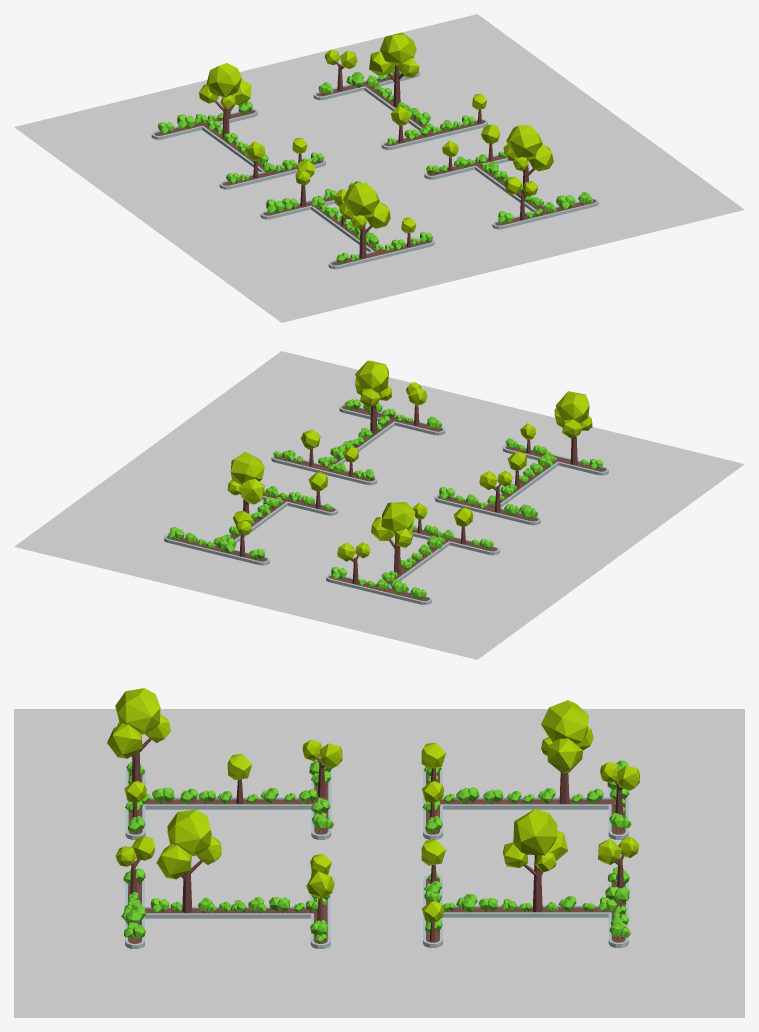
The model's file is LargeCarPark.fbx.
3 renders of one model, top to bottom at view 1: azimuth 30°, elevation 25°; view 2: azimuth 150°, elevation 25°; view 3: azimuth 270°, elevation 25°, orthographic. The views are drawn at different scales.
Visible parts, largest first — view 1: Plane, Cube.013, Cube.004, Cube.035, Cube.024, Icosphere.047, Icosphere.050, Icosphere.097, Icosphere.000, Cylinder.154, Cylinder.041; view 2: Plane, Cube.024, Cube.035, Cube.013, Cube.004, Icosphere.047, Icosphere.097, Icosphere.000, Icosphere.050, Cylinder.046, Cylinder.139; view 3: Plane, Cube.024, Cube.013, Cube.035, Cube.004, Icosphere.000, Icosphere.097, Icosphere.050, Icosphere.047, Cylinder.139, Cylinder.041, Cylinder.046 (+8 smaller).
Boxes of the visible parts, x1=… form: Plane: x1=14, y1=14, x2=744, y2=322; Cube.013: x1=151, y1=108, x2=325, y2=189; Cube.004: x1=313, y1=71, x2=487, y2=149; Cube.035: x1=424, y1=154, x2=598, y2=229; Cube.024: x1=260, y1=196, x2=434, y2=269; Icosphere.047: x1=206, y1=63, x2=241, y2=97; Icosphere.050: x1=343, y1=183, x2=379, y2=216; Icosphere.097: x1=506, y1=125, x2=542, y2=158; Icosphere.000: x1=380, y1=32, x2=416, y2=66; Cylinder.154: x1=504, y1=176, x2=537, y2=220; Cylinder.041: x1=325, y1=49, x2=357, y2=91; Plane: x1=14, y1=351, x2=744, y2=659; Cube.024: x1=434, y1=444, x2=608, y2=525; Cube.035: x1=271, y1=404, x2=445, y2=485; Cube.013: x1=326, y1=527, x2=499, y2=604; Cube.004: x1=164, y1=493, x2=337, y2=565; Icosphere.047: x1=381, y1=502, x2=415, y2=533; Icosphere.097: x1=355, y1=360, x2=388, y2=392; Icosphere.000: x1=230, y1=451, x2=264, y2=484; Icosphere.050: x1=555, y1=391, x2=589, y2=422; Cylinder.046: x1=337, y1=542, x2=370, y2=584; Cylinder.139: x1=479, y1=470, x2=512, y2=512; Plane: x1=14, y1=709, x2=744, y2=1017; Cube.024: x1=125, y1=769, x2=331, y2=839; Cube.013: x1=423, y1=769, x2=628, y2=839; Cube.035: x1=125, y1=879, x2=330, y2=948; Cube.004: x1=423, y1=875, x2=628, y2=947; Icosphere.000: x1=513, y1=809, x2=557, y2=855; Icosphere.097: x1=167, y1=809, x2=211, y2=855; Icosphere.050: x1=115, y1=688, x2=160, y2=734; Icosphere.047: x1=541, y1=700, x2=588, y2=744; Cylinder.139: x1=302, y1=739, x2=342, y2=797; Cylinder.041: x1=598, y1=836, x2=638, y2=888; Cylinder.046: x1=600, y1=761, x2=639, y2=816.
Size of the model in its own units: 7303 by 1122 by 7303.
